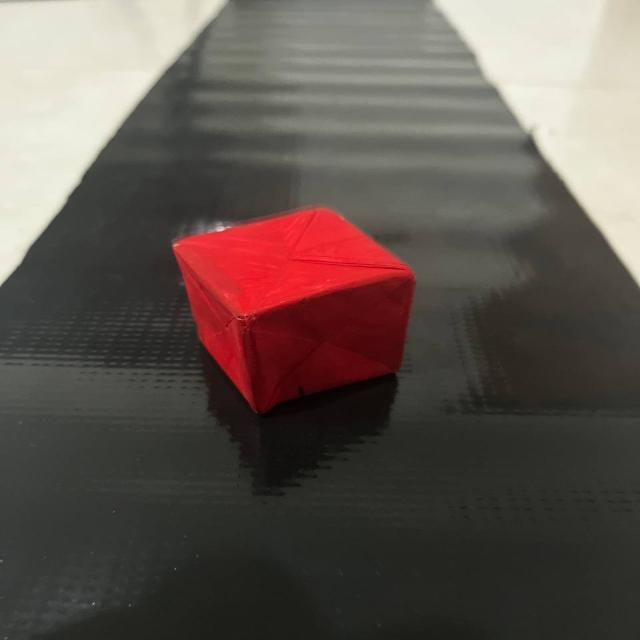Rojo: (162, 196, 433, 424)
